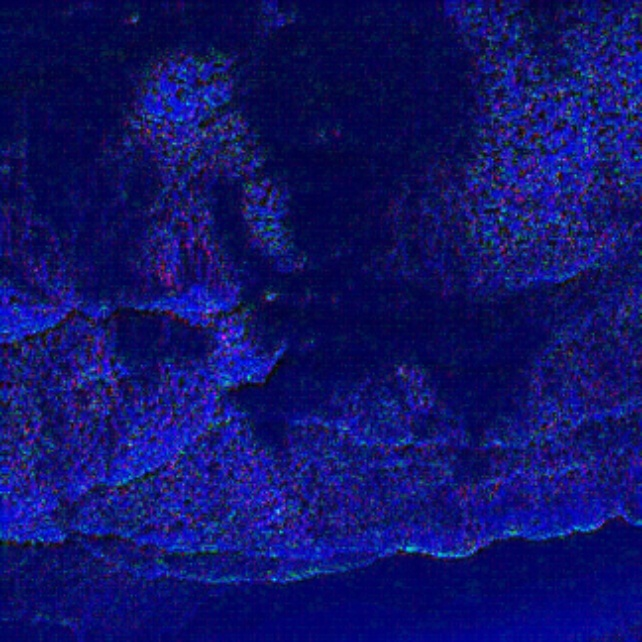rip_current: (186, 20, 517, 456)
